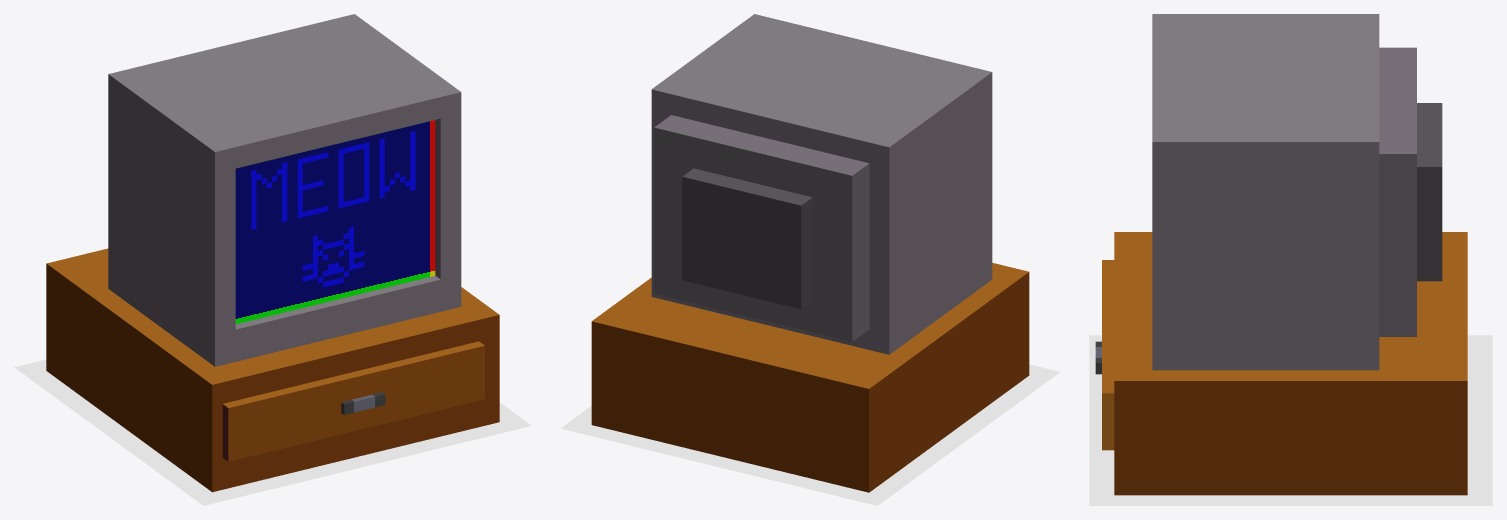
The picture shows the model from 3 angles, left to right: view 1: azimuth 30°, elevation 25°; view 2: azimuth 150°, elevation 25°; view 3: azimuth 270°, elevation 25°; orthographic projection. The views are drawn at different scales.
Visible parts, largest first — view 1: tvbase, table, SCREEN_REPLACE, drawer, plane, SCREEN_REPLACE_OVERLAY, drawerhandle; view 2: table, tvbase, tvback1, tvback2, plane; view 3: tvbase, table, plane, tvback1, tvback2, drawer.
Boxes of the visible parts, x1,y1,x2,y2 form: tvbase: (108, 14, 461, 366); table: (46, 248, 499, 492); SCREEN_REPLACE: (235, 120, 435, 324); drawer: (222, 341, 484, 461); plane: (14, 359, 531, 505); SCREEN_REPLACE_OVERLAY: (251, 131, 415, 287); drawerhandle: (341, 392, 385, 414); table: (591, 263, 1029, 492); tvbase: (651, 14, 992, 354); tvback1: (654, 115, 869, 341); tvback2: (682, 168, 812, 309); plane: (561, 364, 1059, 505); tvbase: (1152, 14, 1379, 370); table: (1114, 232, 1467, 495); plane: (1089, 335, 1492, 505); tvback1: (1379, 47, 1416, 336); tvback2: (1417, 103, 1442, 281); drawer: (1102, 260, 1114, 450).
Bounding box in the file's own units: 2 × 1.88 × 2.
Materials: 5 (3 with a texture image).
